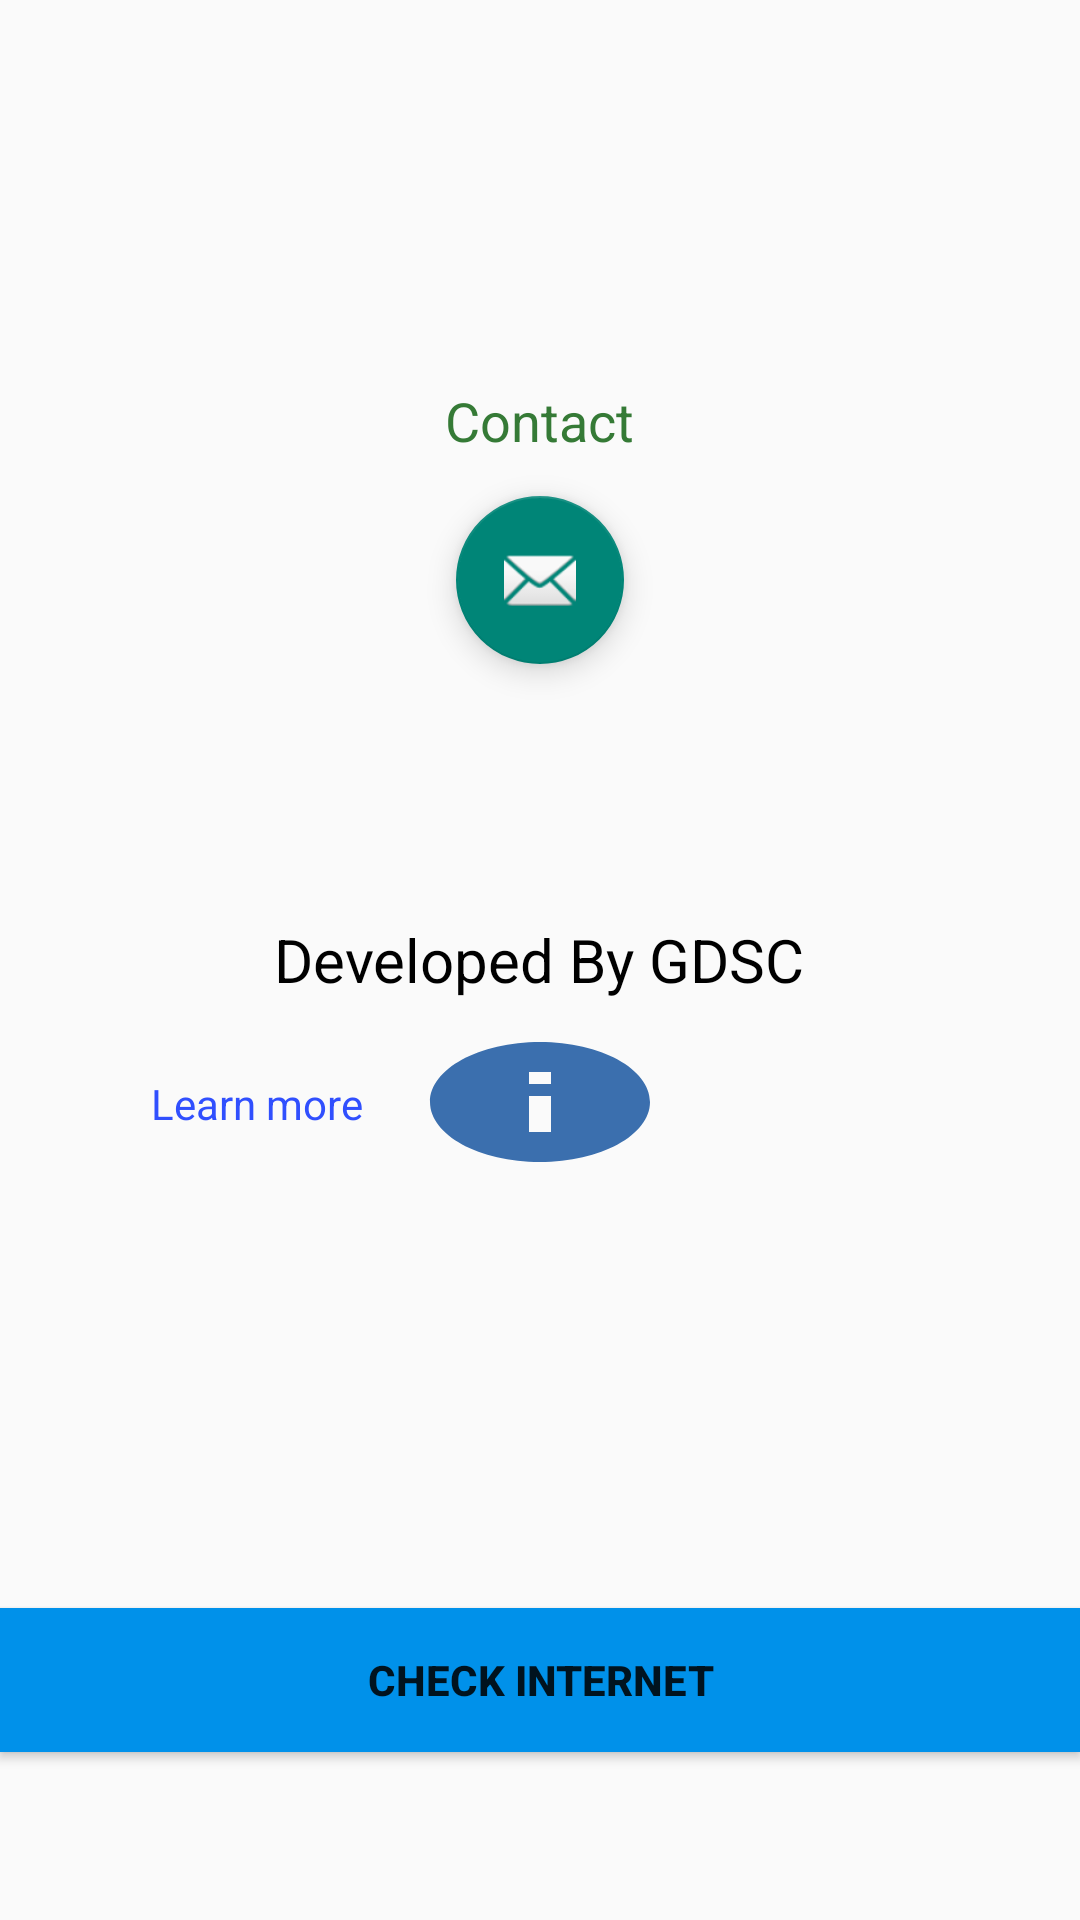

Screen size 1080px×1920px. Icon name, then its box in pixels as (x1, y1, x2, y2):
about: (430, 1042, 650, 1162)
email: (456, 496, 624, 664)
